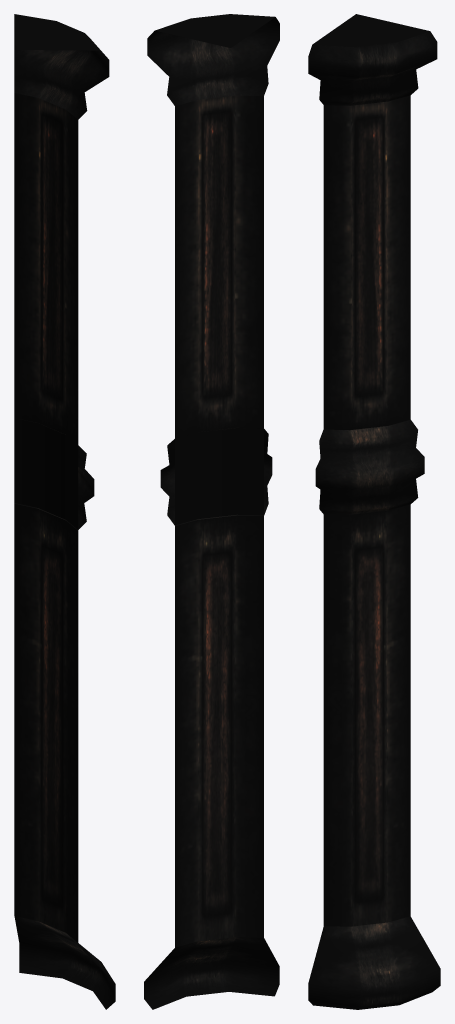
Rendered from welder02_concave_rotten.dae.
3 renders of one model, left to right at view 1: azimuth 90°, elevation 25°; view 2: azimuth 150°, elevation 25°; view 3: azimuth 330°, elevation 25°, orthographic. The views are drawn at different scales.
Parts seen in each view (by area): view 1: welder02_concave; view 2: welder02_concave; view 3: welder02_concave.
Boxes of the visible parts, left/top/right/bottom form: welder02_concave: left=14, top=14, right=115, bottom=1009; welder02_concave: left=144, top=14, right=279, bottom=1009; welder02_concave: left=308, top=14, right=440, bottom=1009.
Bounding box in the file's own units: 0.3489 × 3.64 × 0.3489.
